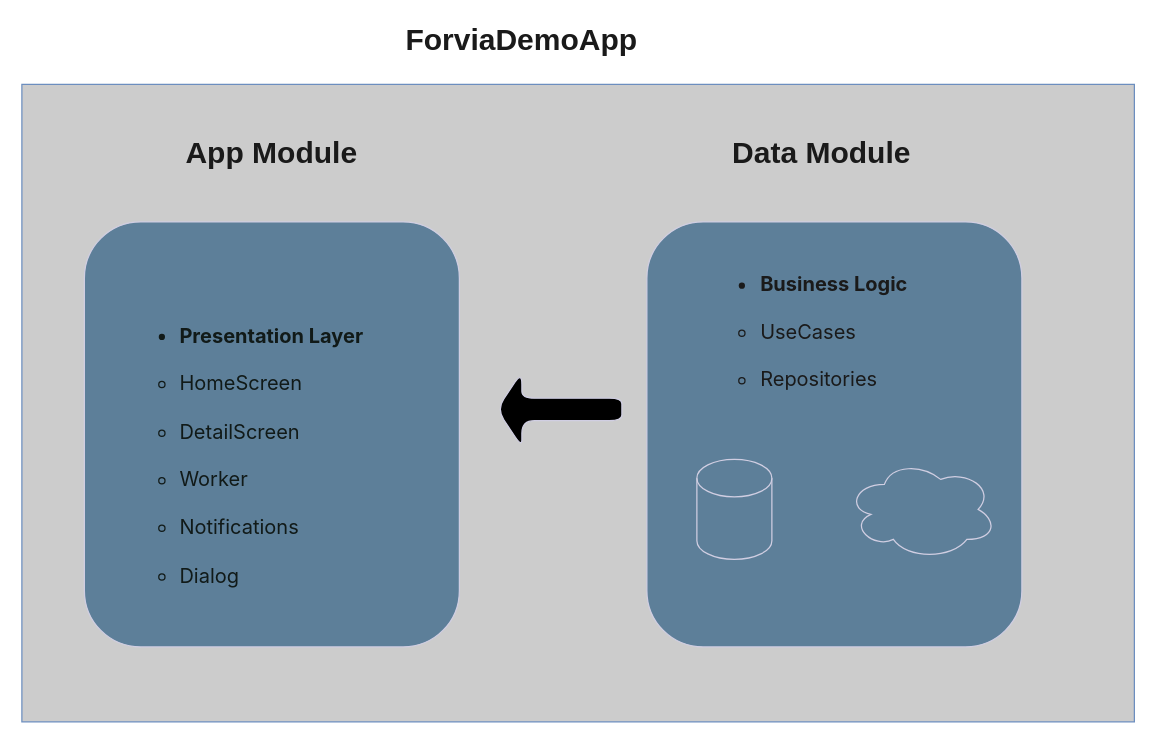
The diagram is 1156 pixels wide and 744 high, and some of its shapes have lost their labels. Each missing label, with the centre of its shape:
"API" belongs at (x=921, y=508).
"Room" belongs at (x=734, y=508).
